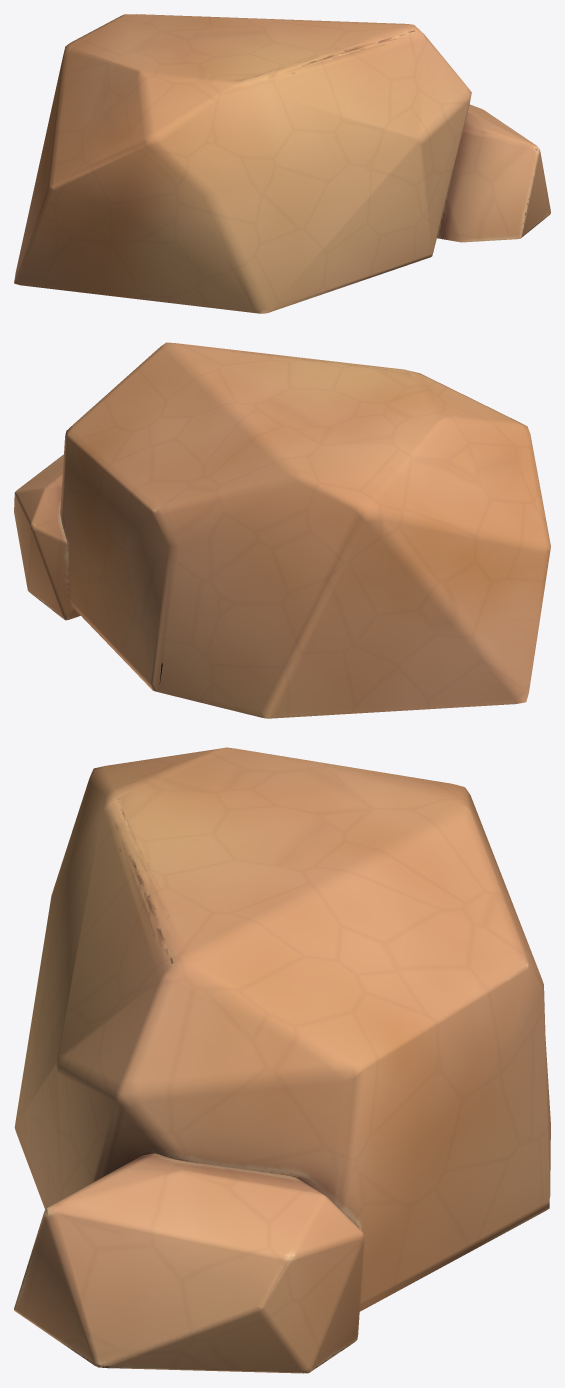
The model's file is Desert_RocherGres_B.fbx.
3 renders of one model, top to bottom at view 1: azimuth 30°, elevation 25°; view 2: azimuth 150°, elevation 25°; view 3: azimuth 270°, elevation 25°, orthographic. The views are drawn at different scales.
Visible parts, largest first — view 1: Desert_RocherGres_B; view 2: Desert_RocherGres_B; view 3: Desert_RocherGres_B.
Part boxes in pixels (x1,y1,x2,y2): Desert_RocherGres_B: (14,14,550,313); Desert_RocherGres_B: (14,342,550,718); Desert_RocherGres_B: (14,747,550,1373).
Size of the model in its own units: 1004 by 451 by 611.
1 material, 1 textured.
